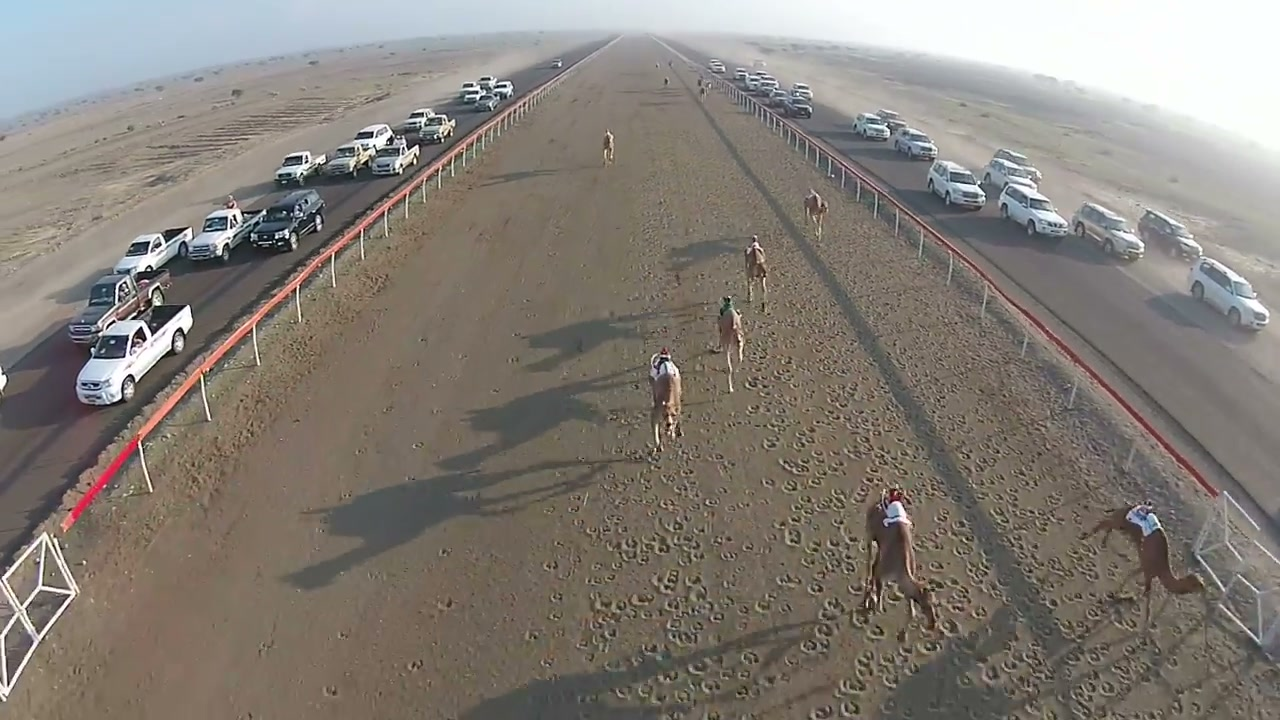animal_foot_print: (824, 322, 1011, 644), (555, 428, 764, 713), (748, 389, 882, 708)
